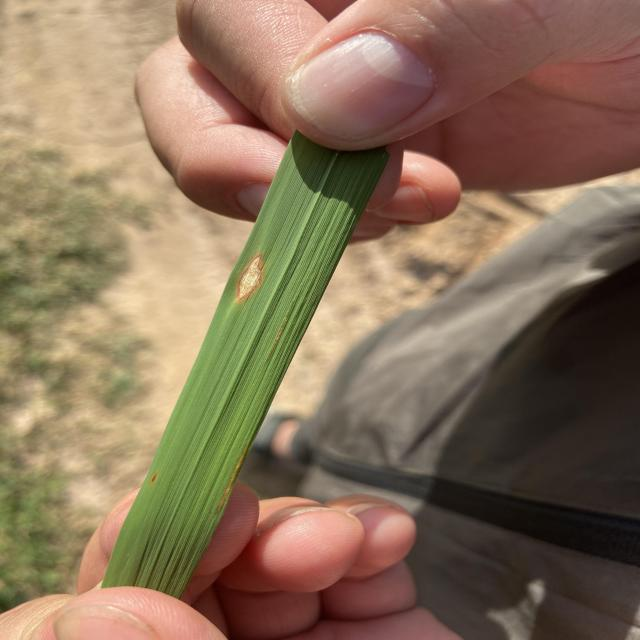Dao on: (236, 254, 263, 301)
